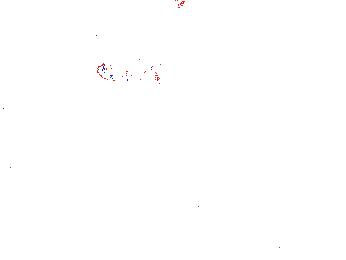redtail glassfish: (93, 57, 161, 86)
siberian prawn: (1, 218, 36, 254)
